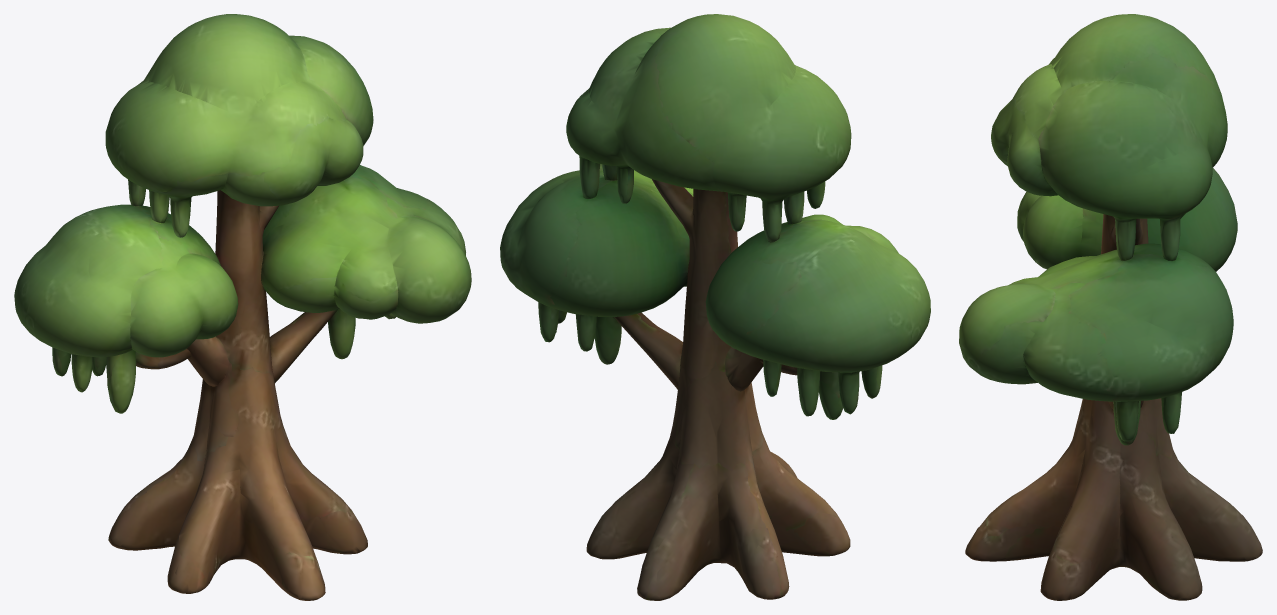
The model's file is bald_cypress_pbr.glb.
The picture shows the model from 3 angles, left to right: view 1: azimuth 30°, elevation 25°; view 2: azimuth 150°, elevation 25°; view 3: azimuth 270°, elevation 25°; orthographic projection.
Parts seen in each view (by area): view 1: model; view 2: model; view 3: model.
Boxes of the visible parts, <box> form: model: <box>14,14,471,600</box>; model: <box>500,14,930,600</box>; model: <box>959,14,1262,600</box>.
Bounding box in the file's own units: 1.39 × 1.72 × 0.8883.
Materials: 1 (1 with a texture image).
